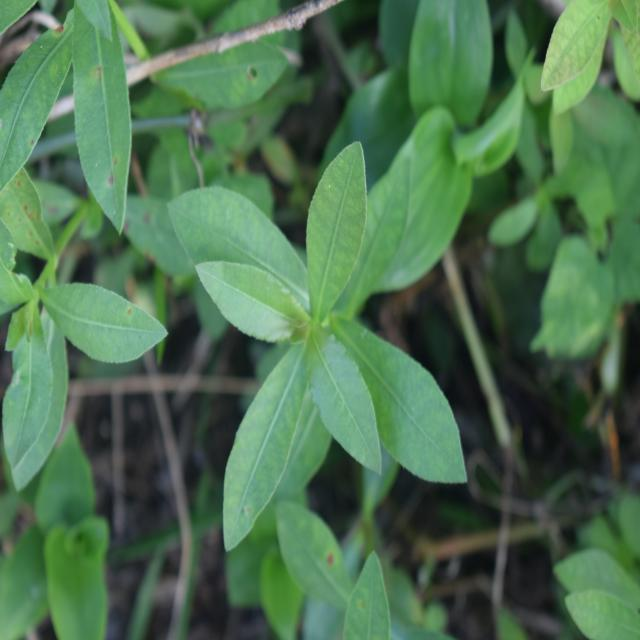Alligatorweed: (154, 104, 468, 502)
